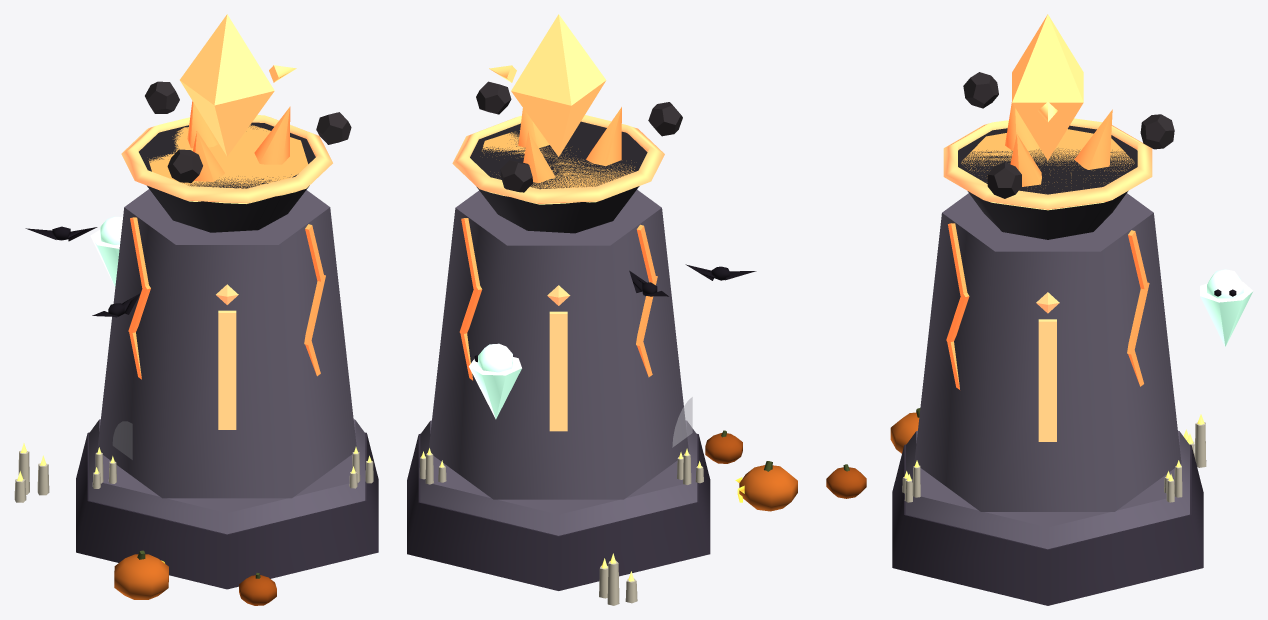
File: tower_element_elementFire.glb
3 renders of one model, left to right at view 1: azimuth 30°, elevation 25°; view 2: azimuth 150°, elevation 25°; view 3: azimuth 270°, elevation 25°, orthographic. The views are drawn at different scales.
Parts seen in each view (by area): view 1: pillar, base, base_top, crystal, fire_bowl, fire_bowl_rim, fire_embers, aura, rune_2, deco_hw_jack_body, lava_crack_1, fire_tongue_0 (+10 smaller); view 2: pillar, base, base_top, fire_bowl, crystal, fire_bowl_rim, aura, fire_embers, rune_1, deco_hw_jack_body, deco_hw_ghost_sheet, lava_crack_0 (+10 smaller); view 3: pillar, base, base_top, fire_bowl, crystal, fire_bowl_rim, aura, fire_embers, rune_0, deco_hw_ghost_sheet, lava_crack_2, lava_crack_0 (+7 smaller).
Part boxes in pixels (x1,y1,x2,y2): pillar: (97, 189, 356, 498); base: (76, 432, 378, 589); base_top: (89, 419, 365, 534); crystal: (180, 14, 274, 156); fire_bowl: (139, 122, 315, 232); fire_bowl_rim: (121, 115, 332, 203); fire_embers: (148, 125, 308, 188); aura: (145, 81, 351, 182); rune_2: (218, 310, 236, 429); deco_hw_jack_body: (114, 554, 168, 599); lava_crack_1: (128, 217, 150, 379); fire_tongue_0: (254, 106, 290, 164); pillar: (428, 189, 688, 499); base: (407, 433, 710, 590); base_top: (420, 420, 697, 535); fire_bowl: (470, 121, 647, 233); crystal: (511, 14, 606, 156); fire_bowl_rim: (452, 115, 664, 204); aura: (476, 81, 682, 192); fire_embers: (482, 130, 634, 188); rune_1: (549, 311, 567, 431); deco_hw_jack_body: (739, 465, 797, 511); deco_hw_ghost_sheet: (469, 357, 521, 419); lava_crack_0: (459, 218, 482, 380); pillar: (914, 193, 1181, 511); base: (892, 444, 1203, 605); base_top: (906, 430, 1189, 549); fire_bowl: (958, 125, 1137, 239); crystal: (1012, 14, 1083, 160); fire_bowl_rim: (943, 118, 1152, 210); aura: (963, 72, 1174, 198); fire_embers: (961, 129, 1134, 187); rune_0: (1038, 319, 1056, 441); deco_hw_ghost_sheet: (1200, 281, 1253, 346); lava_crack_2: (946, 223, 969, 389); lava_crack_0: (1127, 230, 1149, 386).
Size of the model in its own units: 0.4175 by 0.618 by 0.4636.
